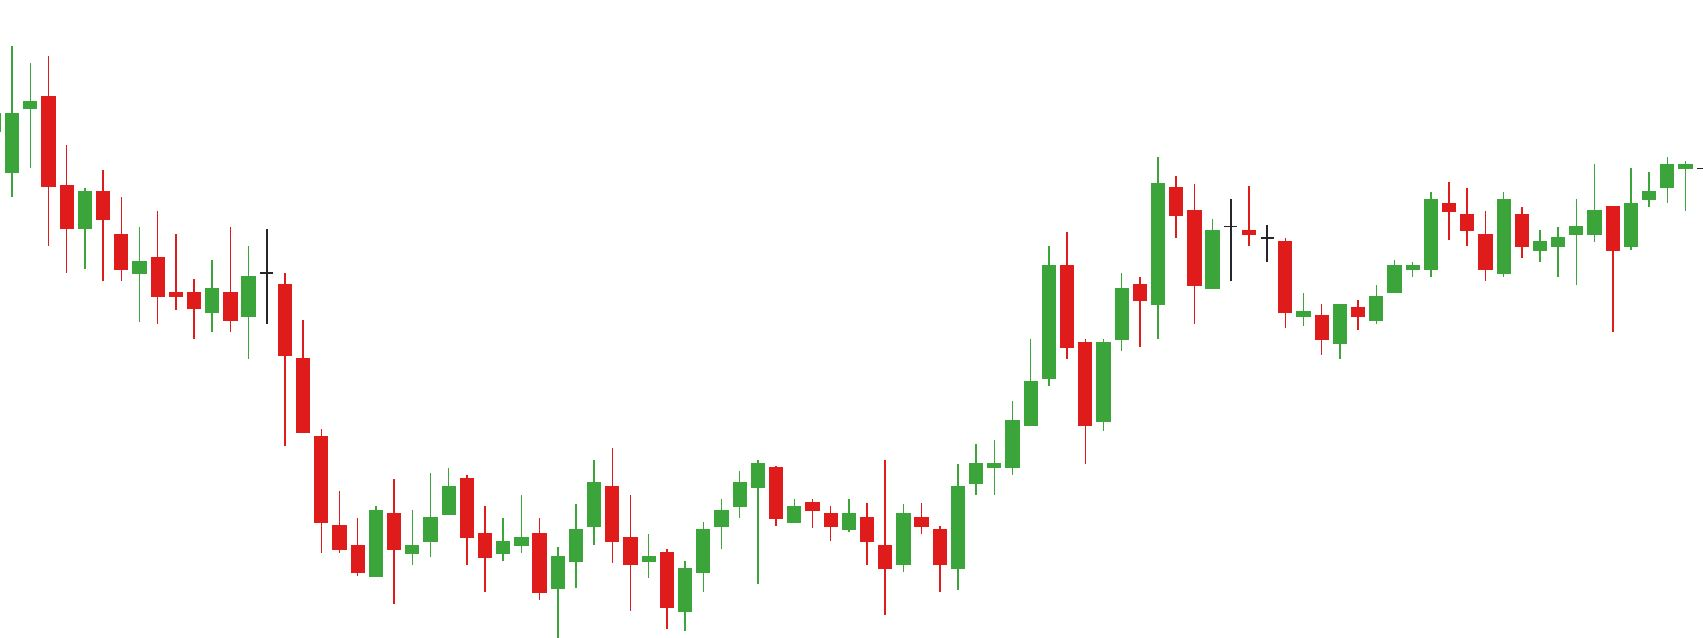buy: (382, 502, 565, 638)
